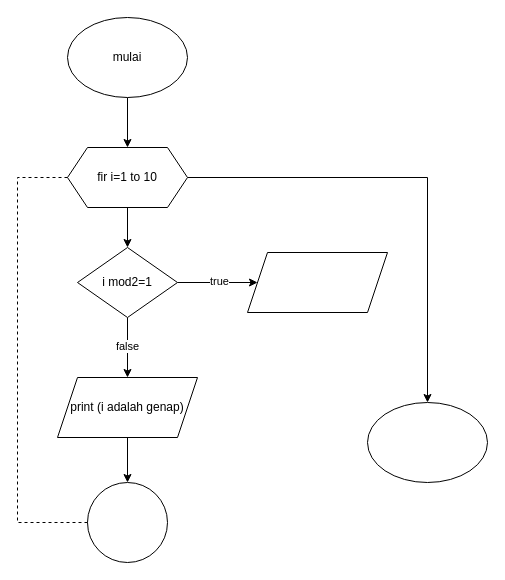
Image size: 505x580. Some labels were removed from this diagram. Here are the shapes that lost their labels. From the top down, the centre of each, then its label:
At point (317, 282): "print (i adalah ganjil)".
At point (427, 442): "selesai".
